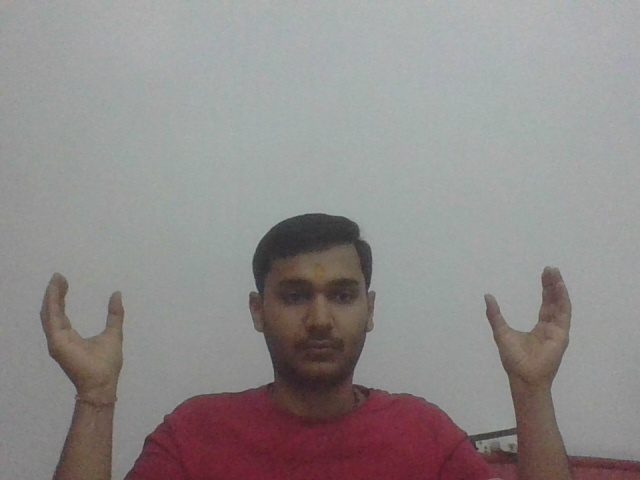U: (483, 265, 578, 390), (35, 270, 131, 389)
